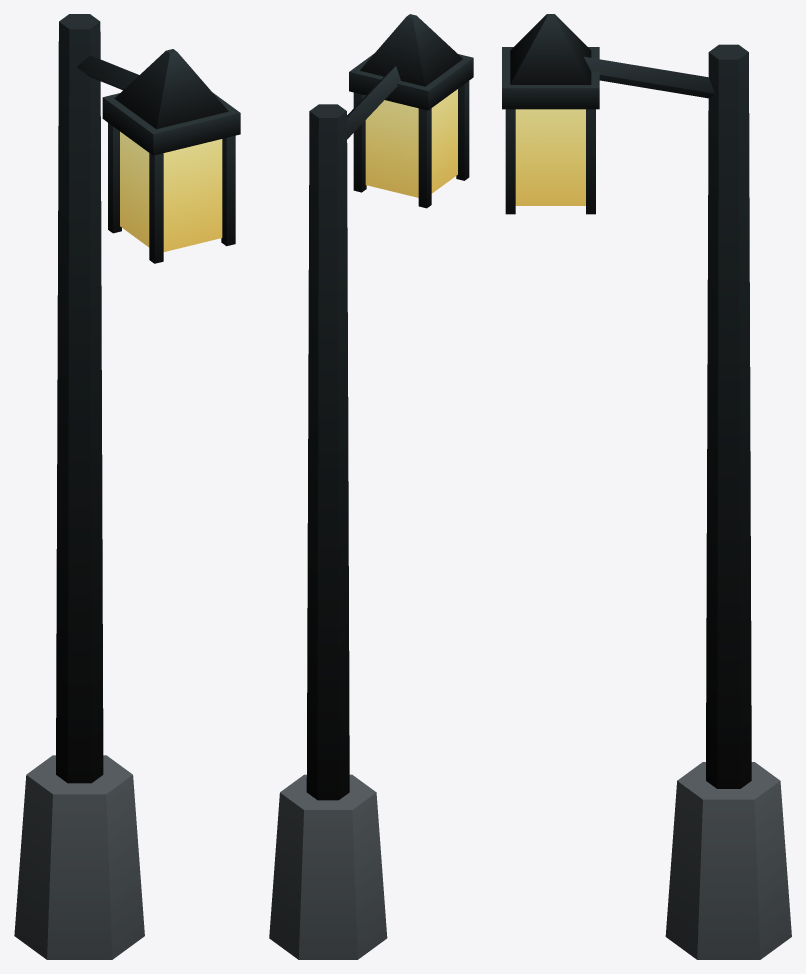
Rendered from lamp_post.glb.
3 views of the same model, side by side, from view 1: azimuth 30°, elevation 25°; view 2: azimuth 150°, elevation 25°; view 3: azimuth 270°, elevation 25° (orthographic). The views are drawn at different scales.
Parts seen in each view (by area): view 1: lamp_post; view 2: lamp_post; view 3: lamp_post.
Boxes of the visible parts, box(x1,y1,x2,y2) form: lamp_post: box(14, 14, 240, 959); lamp_post: box(269, 14, 473, 959); lamp_post: box(502, 14, 791, 959).
Size of the model in its own units: 0.3811 by 3.54 by 1.01.
2 materials, 2 textured.
